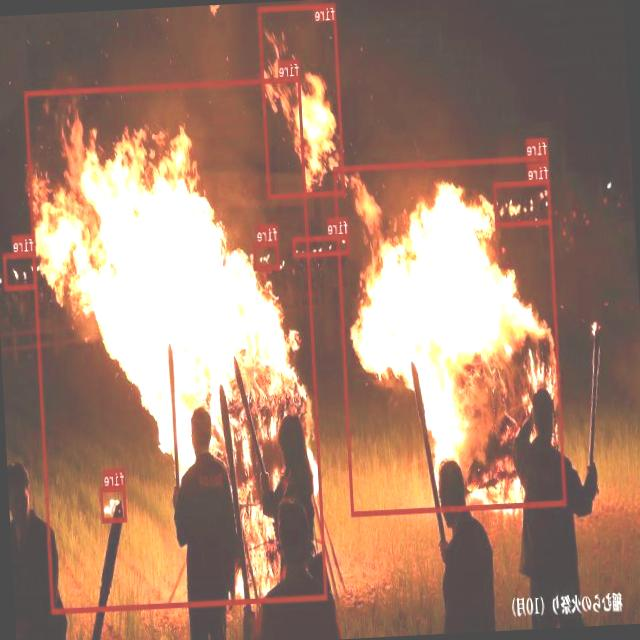fire: (25, 76, 328, 614), (334, 155, 567, 516), (258, 2, 346, 198), (494, 179, 552, 226), (293, 234, 351, 257), (3, 252, 38, 290), (101, 485, 128, 522), (253, 241, 280, 270)
